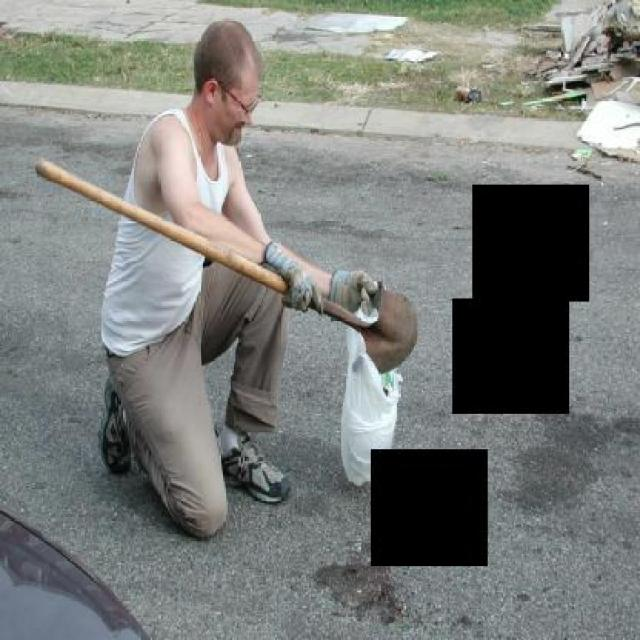plastic bag: (340, 289, 405, 483)
